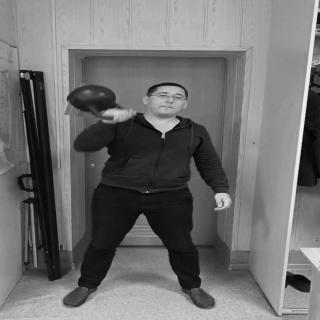kettlebell: (67, 85, 137, 122)
